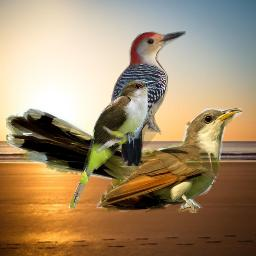Cuckoo: (6, 108, 242, 213), (68, 79, 156, 210)
Woodpecker: (107, 31, 186, 166)
